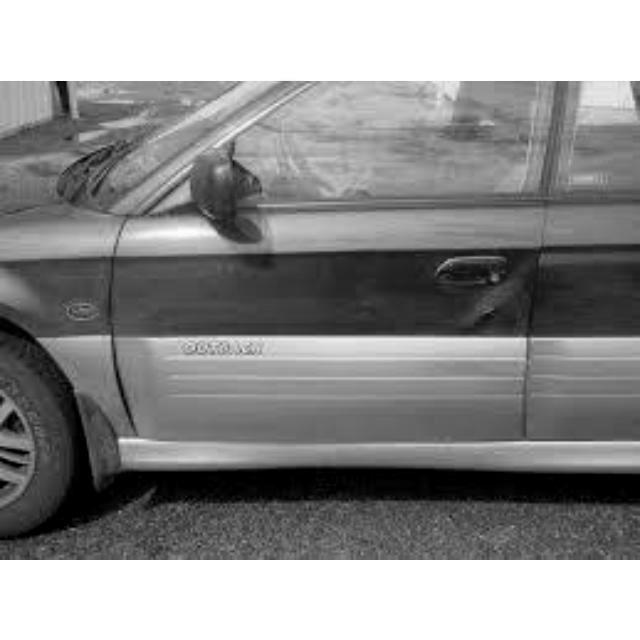doorouter-dent: (305, 199, 532, 438)
